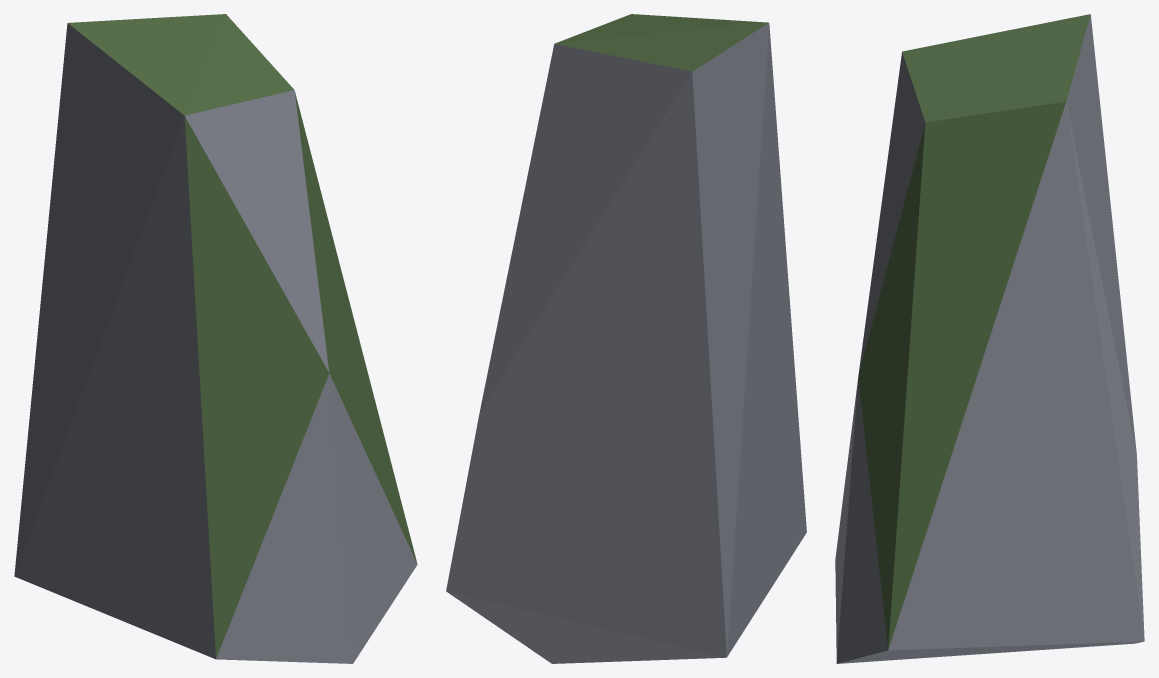
The model's file is Rock_Moss_1.lod4.glb.
3 views of the same model, side by side, from view 1: azimuth 30°, elevation 25°; view 2: azimuth 150°, elevation 25°; view 3: azimuth 270°, elevation 25° (orthographic). The views are drawn at different scales.
Parts seen in each view (by area): view 1: Rock_Moss_1; view 2: Rock_Moss_1; view 3: Rock_Moss_1.
Part boxes in pixels (<box>): Rock_Moss_1: <box>14,14,417,663</box>; Rock_Moss_1: <box>446,14,806,663</box>; Rock_Moss_1: <box>835,14,1144,663</box>.
Bounding box in the file's own units: 0.4911 × 0.9451 × 0.4605.
